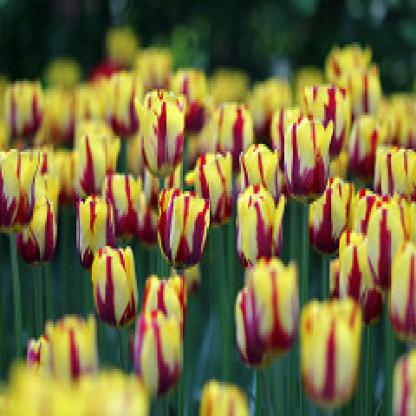TULIP: (10, 40, 410, 404)
